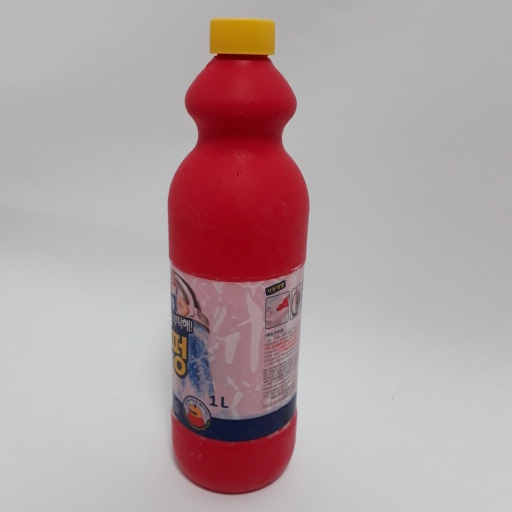Plastic_0: (155, 14, 315, 494)
